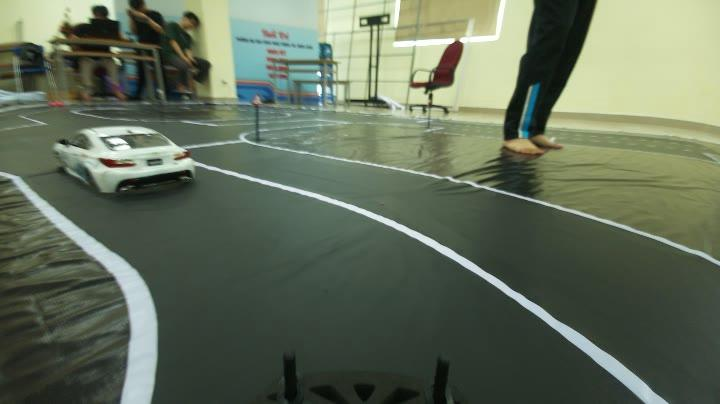car: (46, 121, 200, 204)
